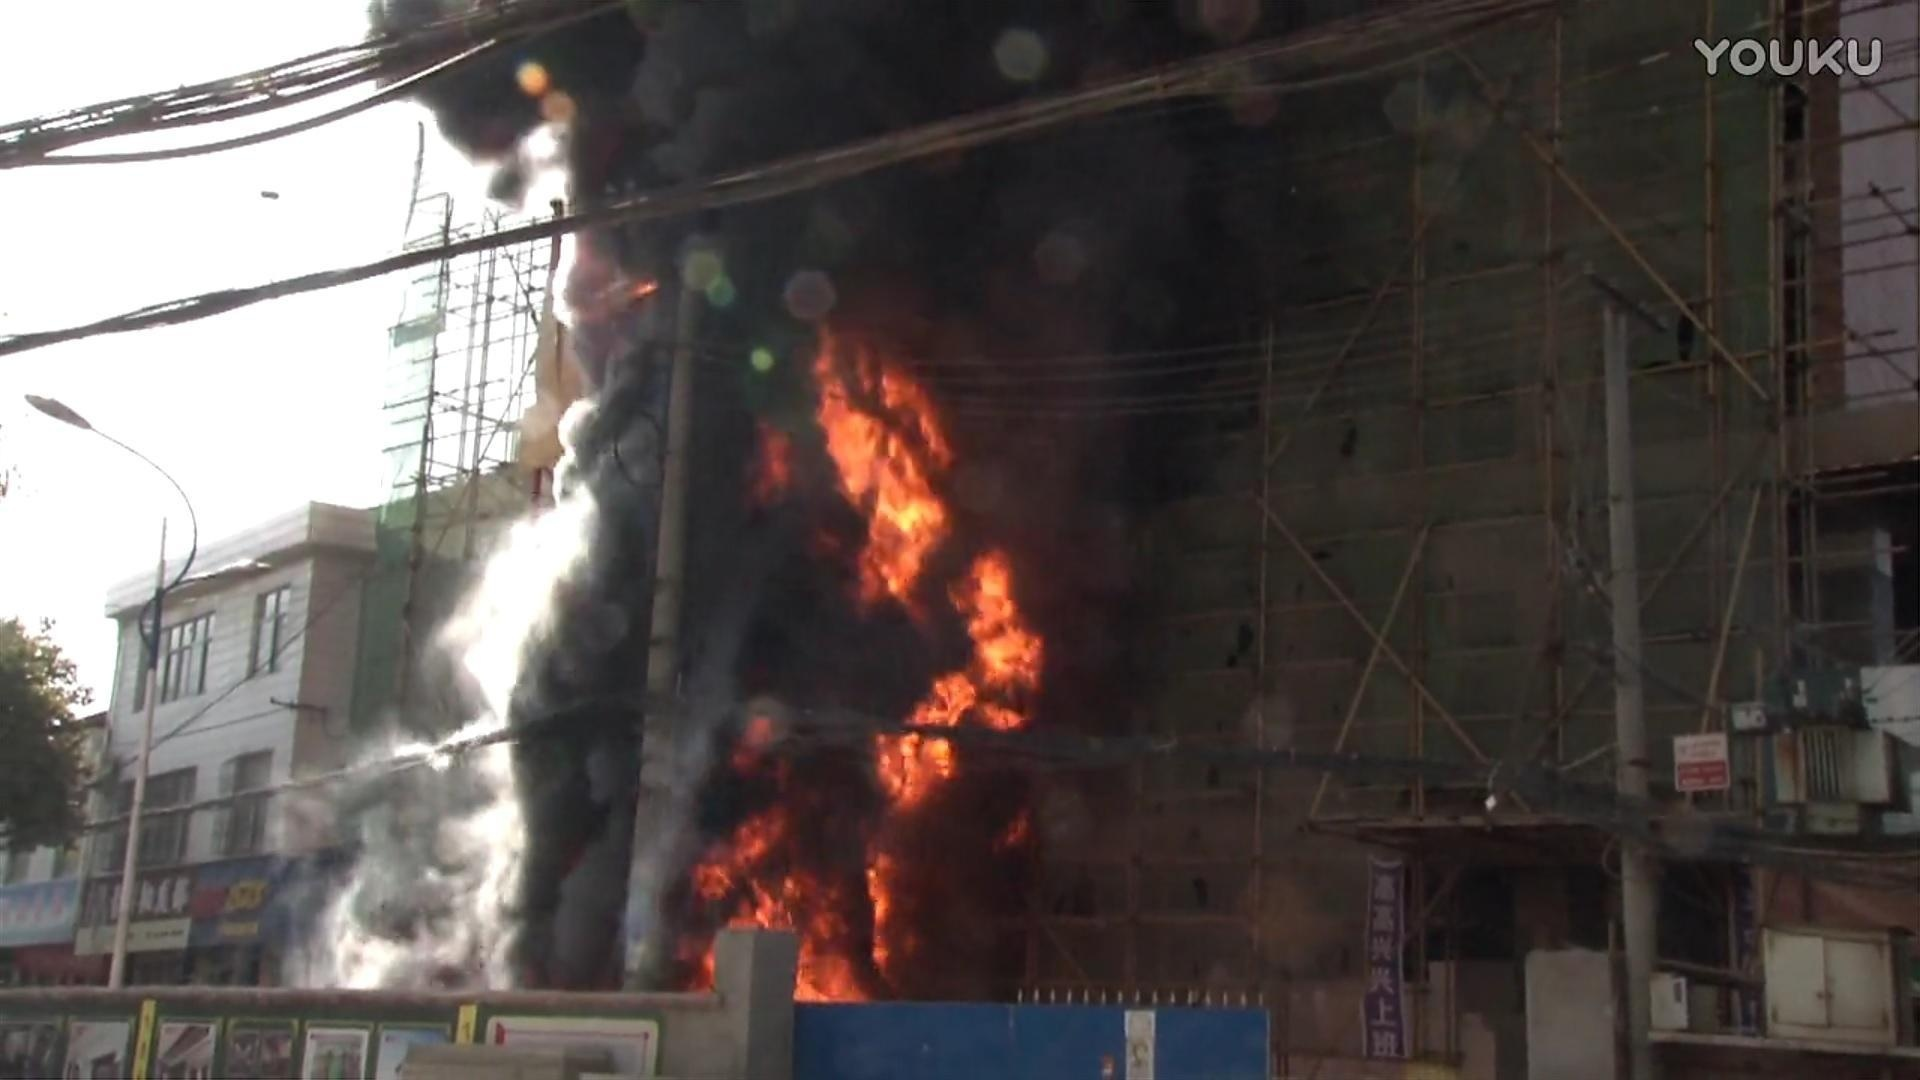fire: (676, 323, 1051, 1006)
